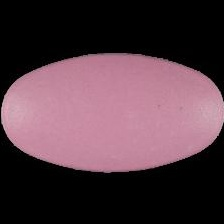0615-7949: (0, 0, 224, 224)
